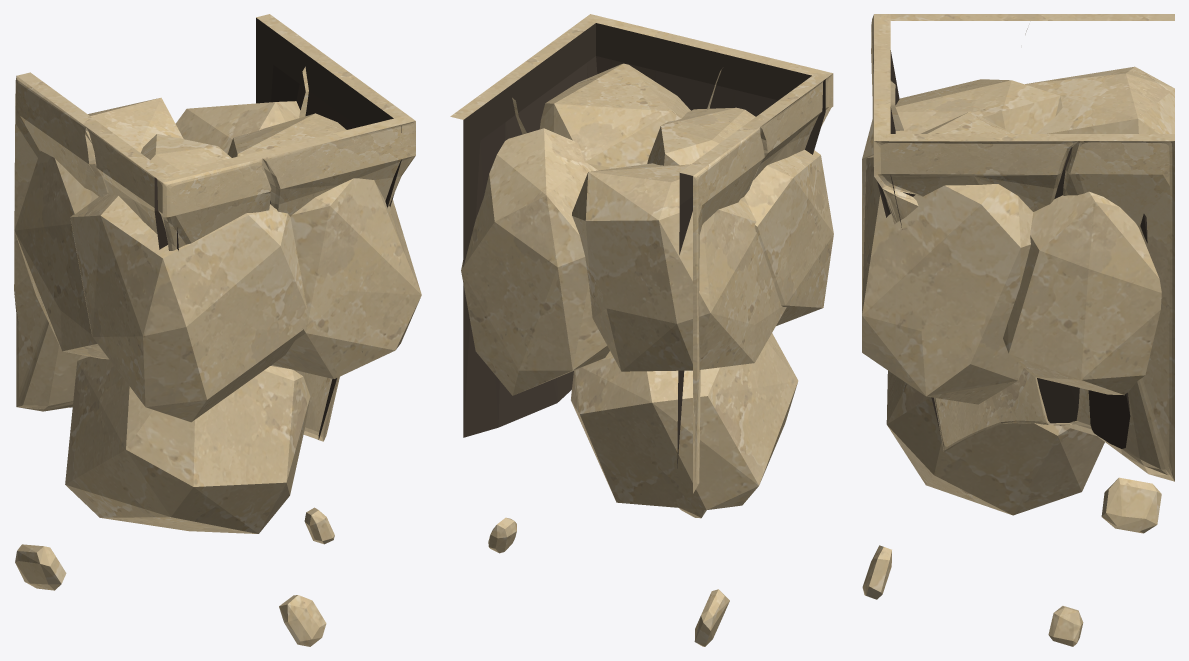
File: ground_bottom_end_03.glb
3 renders of one model, left to right at view 1: azimuth 30°, elevation 25°; view 2: azimuth 150°, elevation 25°; view 3: azimuth 270°, elevation 25°, orthographic. The views are drawn at different scales.
Parts seen in each view (by area): view 1: GroundBottomEnd03_Body; view 2: GroundBottomEnd03_Body; view 3: GroundBottomEnd03_Body.
Part boxes in pixels (bbox=[...]): GroundBottomEnd03_Body: bbox=[14, 14, 421, 646]; GroundBottomEnd03_Body: bbox=[450, 14, 833, 646]; GroundBottomEnd03_Body: bbox=[862, 14, 1174, 646].
Size of the model in its own units: 1.08 by 1.9 by 1.04.
Materials: 11 (10 with a texture image).
